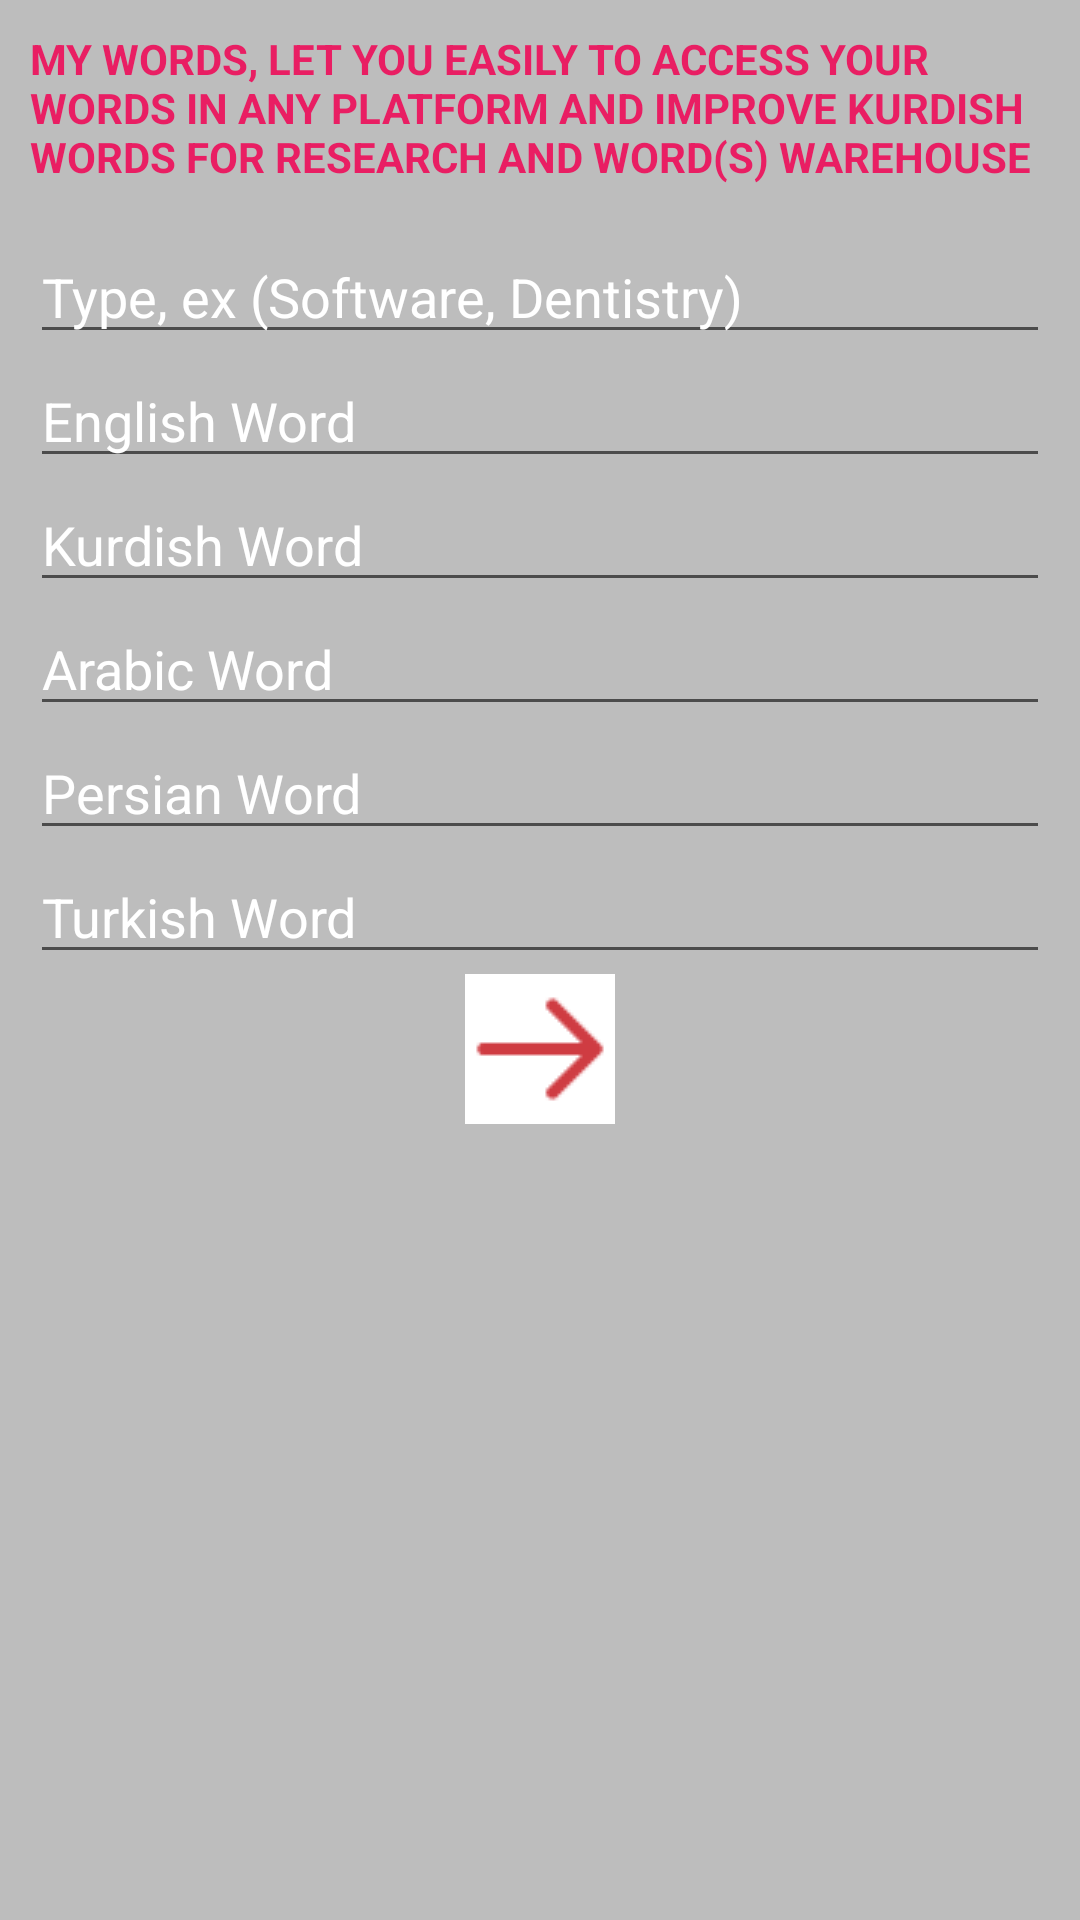

Point at icon controls on the screen. Image size 1080w x 1920h, points as point (x, y).
Confirm: point (540, 1049)
